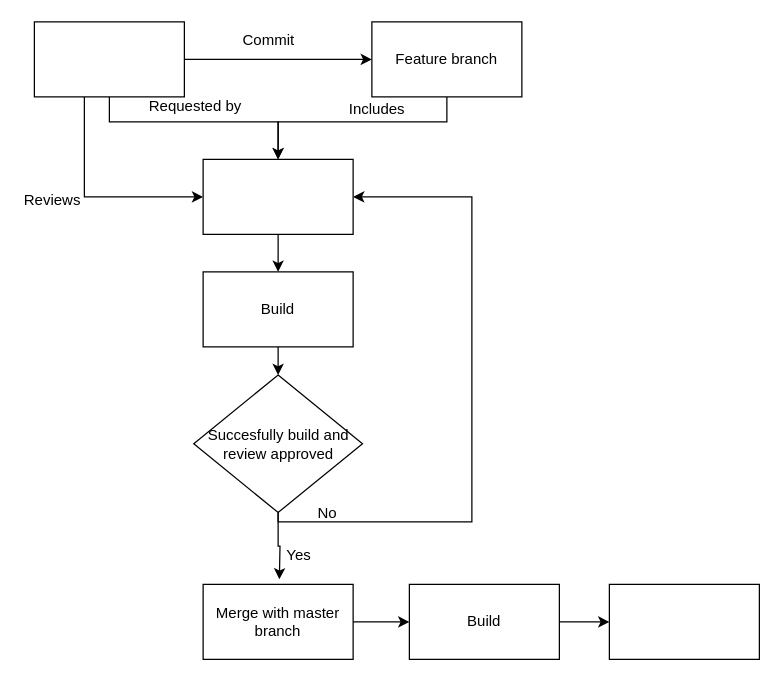
The diagram is 781 pixels wide and 681 high, and some of its shapes have lost their labels. Here are the shapes that lost their labels. From the top down, the centre of each, then its label:
pixel 108 59: Developer
pixel 277 196: Pull request
pixel 683 621: Deploy (If resources are available)
